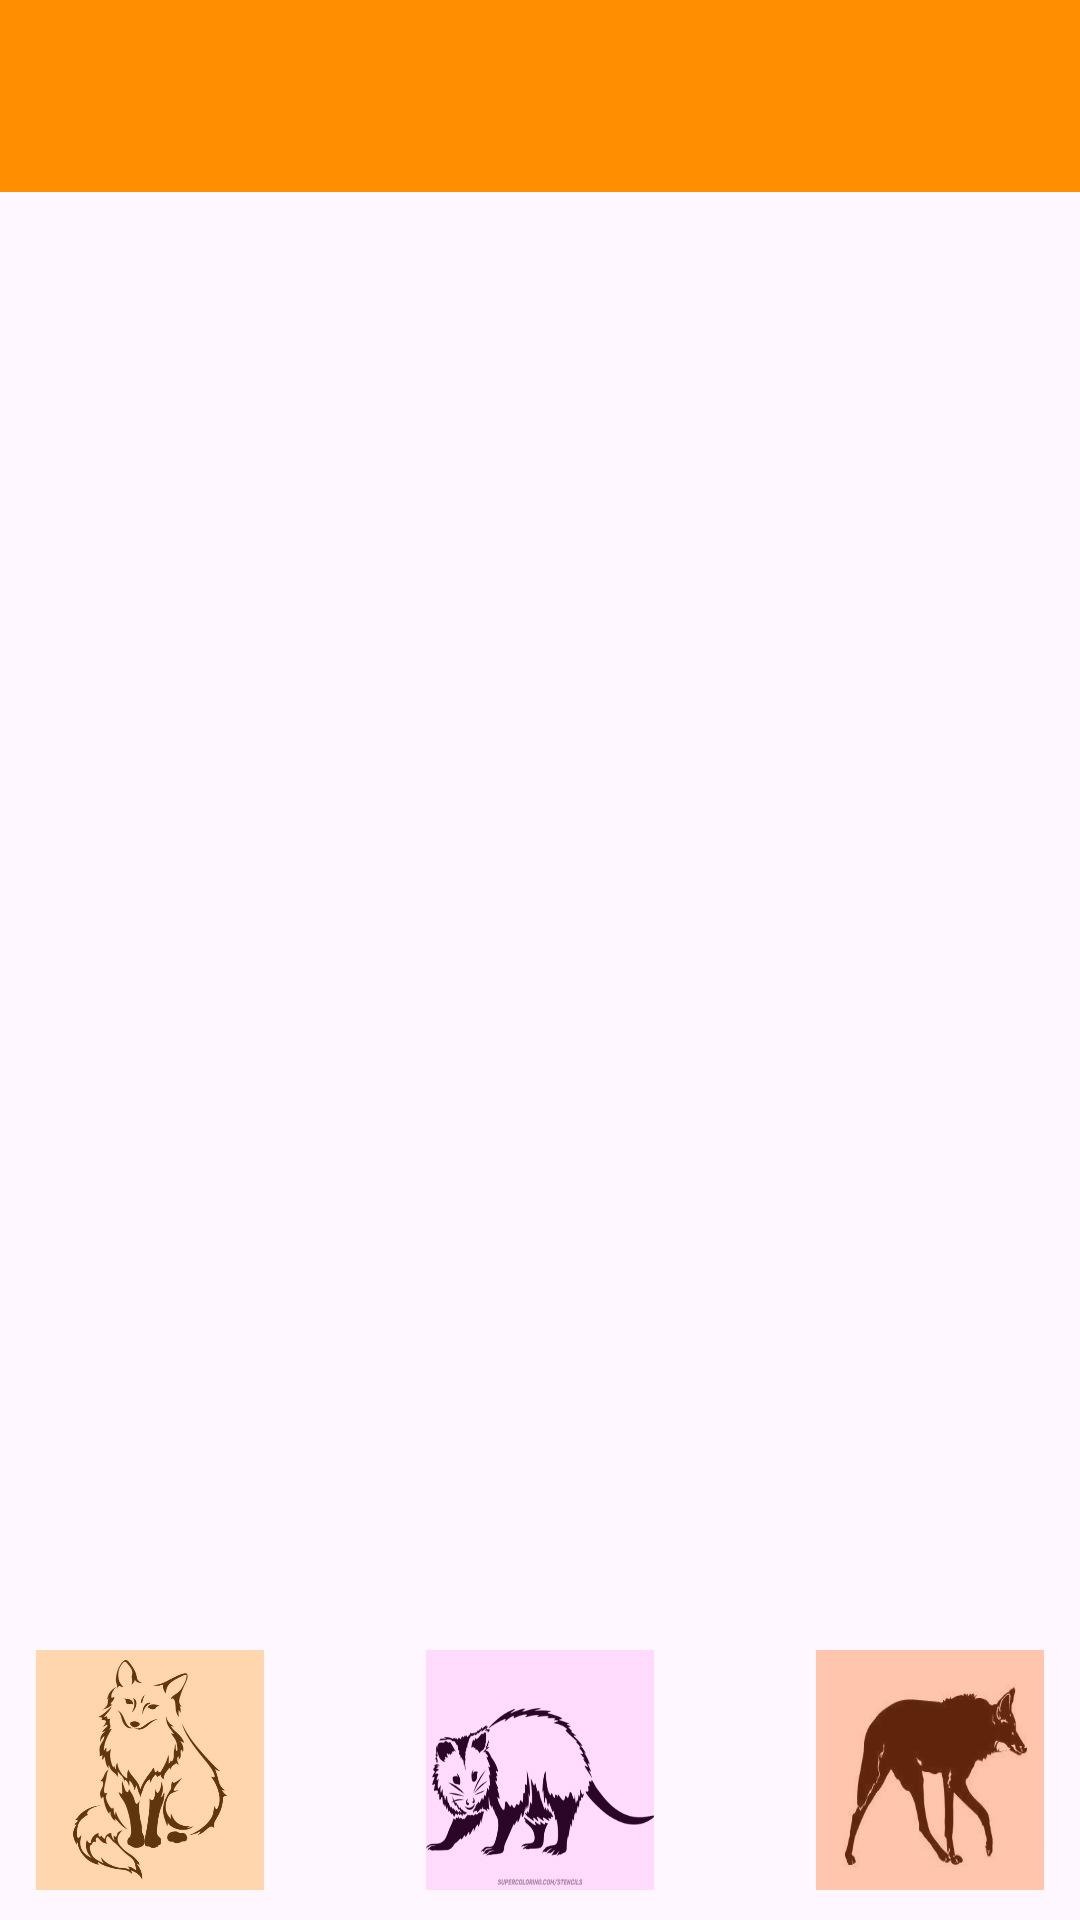

Screen size 1080×1920. Icon name, then its center in pixels as [x,y]:
foxstencil: [150,1770]
manedwolfstencil: [930,1770]
opossumstencil: [540,1770]
